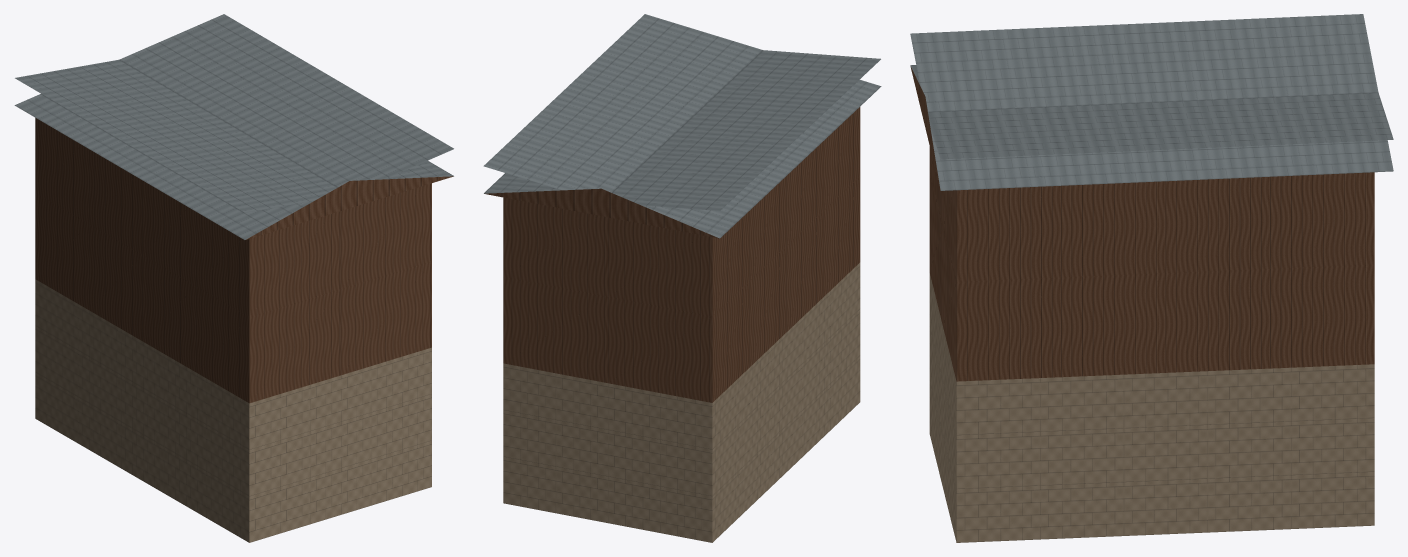
Rendered from bld_c31_-39_467.gltf.
The picture shows the model from 3 angles, left to right: view 1: azimuth 30°, elevation 25°; view 2: azimuth 150°, elevation 25°; view 3: azimuth 270°, elevation 25°; orthographic projection. The views are drawn at different scales.
Visible parts, largest first — view 1: bld_c31_-39_467; view 2: bld_c31_-39_467; view 3: bld_c31_-39_467.
Boxes of the visible parts, x1,y1,x2,y2 form: bld_c31_-39_467: (14, 14, 453, 542); bld_c31_-39_467: (483, 14, 881, 542); bld_c31_-39_467: (910, 14, 1393, 542).
Bounding box in the file's own units: 9.85 × 12.4 × 13.85.
Materials: 4 (4 with a texture image).
